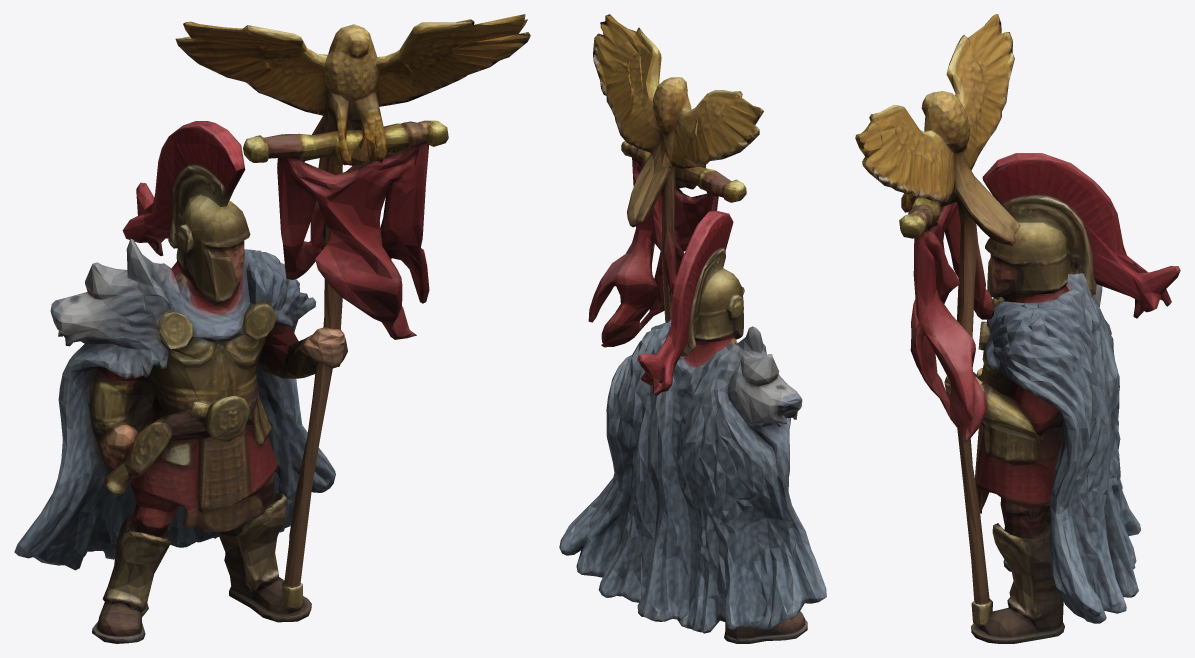
Rendered from aquilaBearer.glb.
3 renders of one model, left to right at view 1: azimuth 30°, elevation 25°; view 2: azimuth 150°, elevation 25°; view 3: azimuth 270°, elevation 25°, orthographic. The views are drawn at different scales.
Parts seen in each view (by area): view 1: world; view 2: world; view 3: world.
Part boxes in pixels (left/top/right/bottom): world: left=14, top=14, right=530, bottom=643; world: left=559, top=14, right=826, bottom=643; world: left=855, top=14, right=1180, bottom=643.
Size of the model in its own units: 0.6817 by 1 by 0.5133.
1 material, 1 textured.
